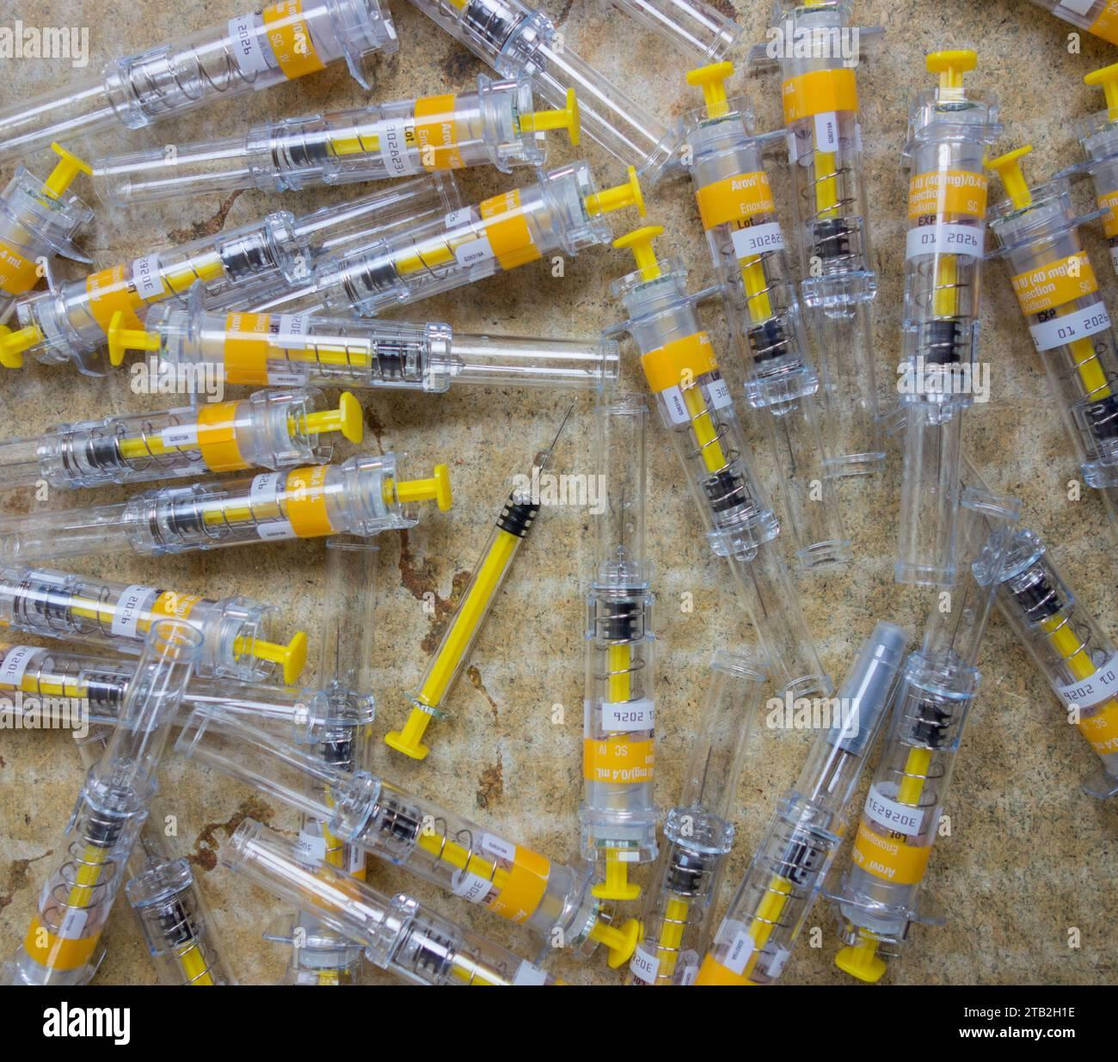Syringe: (175, 708, 639, 967), (607, 226, 831, 696), (828, 476, 1019, 981), (0, 174, 458, 374), (685, 62, 849, 568), (695, 622, 907, 985), (0, 620, 202, 985), (0, 0, 397, 161), (750, 0, 884, 476), (94, 77, 578, 206), (268, 162, 643, 316), (894, 51, 999, 586), (221, 819, 556, 985), (108, 285, 618, 392), (988, 146, 1117, 527), (413, 0, 678, 184), (0, 454, 451, 560), (627, 650, 766, 985), (384, 487, 539, 759), (579, 394, 659, 899), (0, 388, 362, 489), (0, 565, 305, 684), (998, 529, 1117, 798), (124, 801, 236, 985), (304, 537, 378, 771), (125, 828, 235, 985), (0, 144, 92, 322), (1058, 64, 1117, 272), (0, 641, 134, 728), (611, 0, 742, 64), (262, 910, 363, 985), (1031, 0, 1117, 43)
